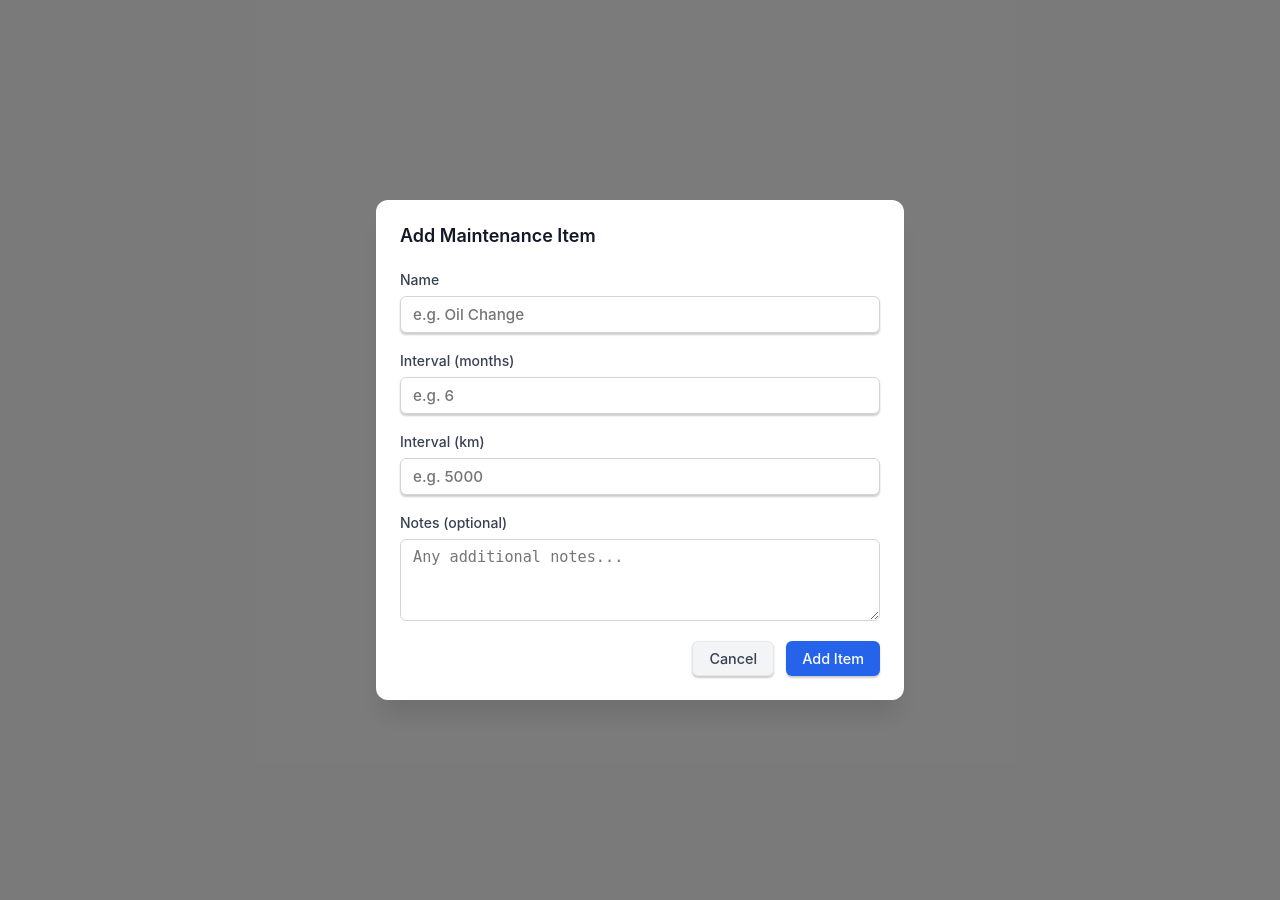
Test: AddEditMaintenanceItem › shows error when both interval fields are empty on submit
In the field with test id "input-name": (640, 314) [400, 296, 880, 333], type "Brake Check"
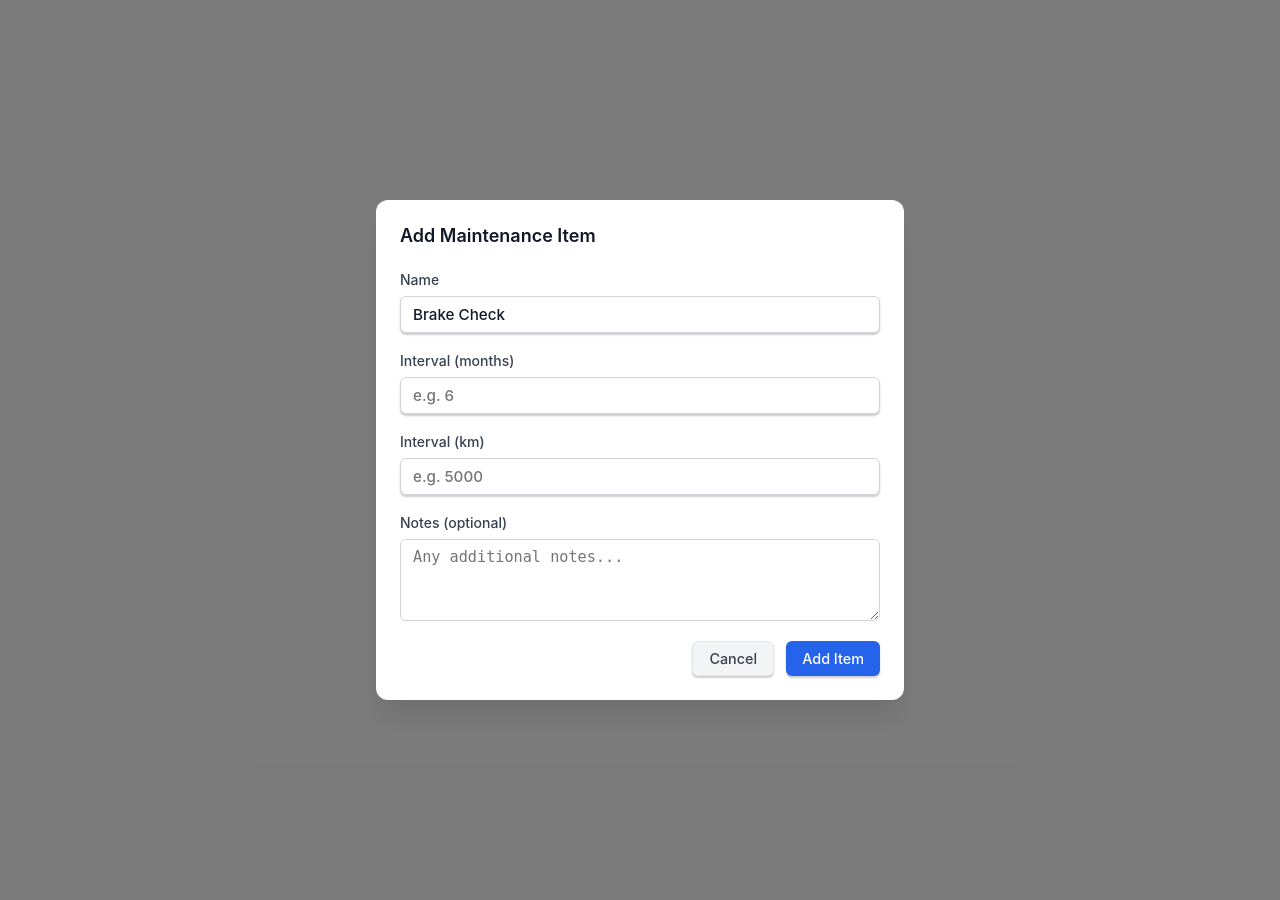
Click the button with test id "btn-submit": (833, 658) [786, 641, 880, 676]
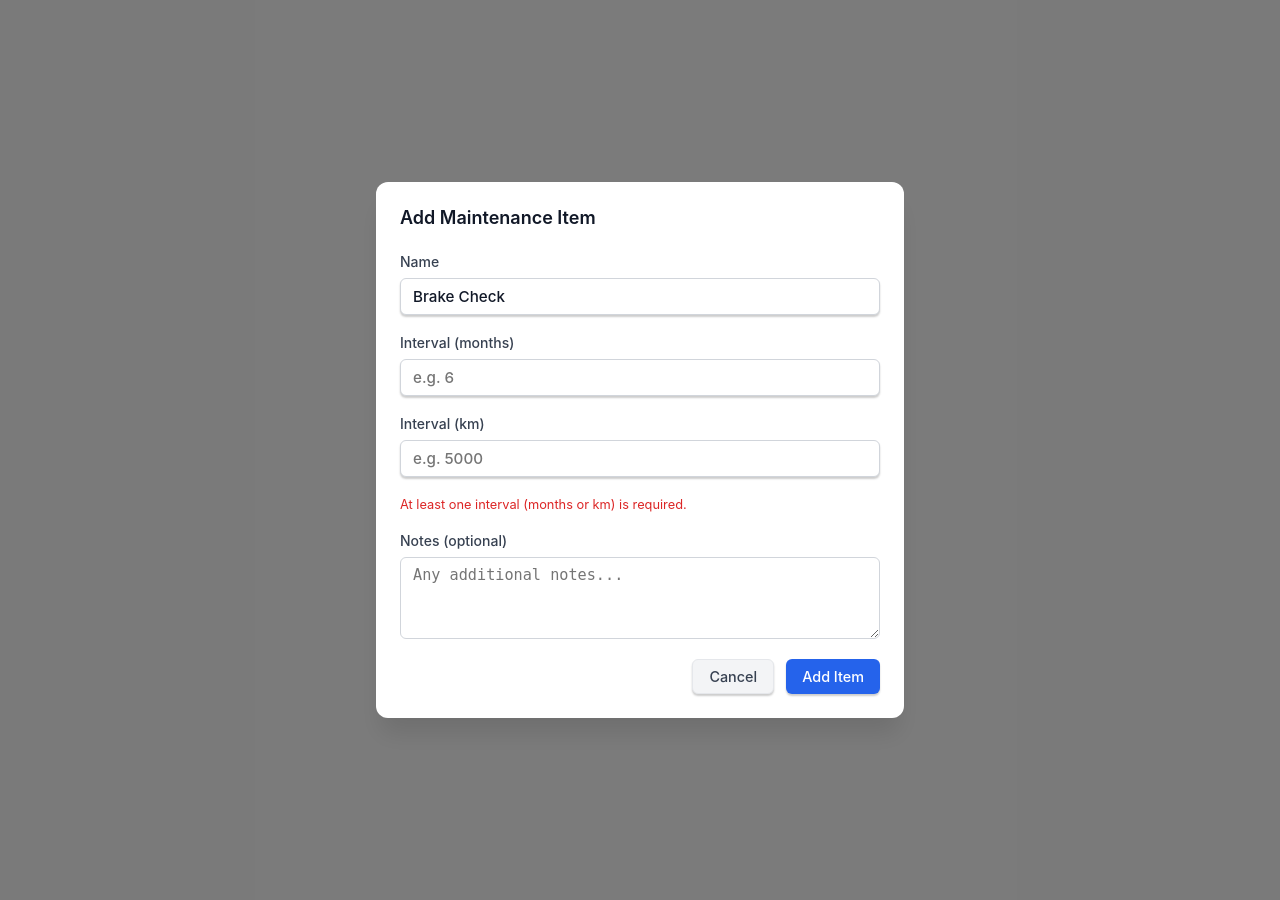
Expected: the text with test id "error-intervals" reads "At least one interval (months or km) is required.", [400, 497, 687, 512]
